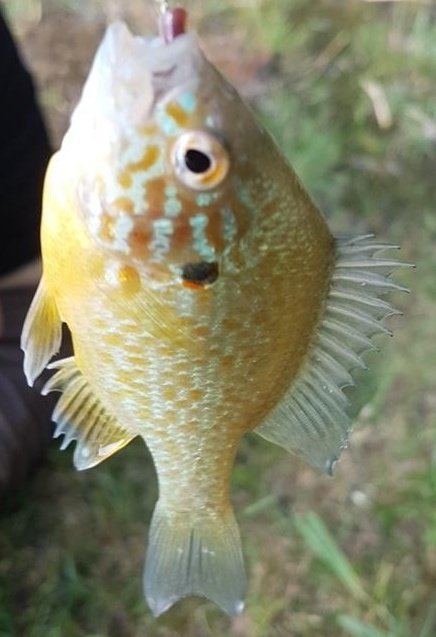Lepomis gibbosus: (20, 20, 416, 617)
